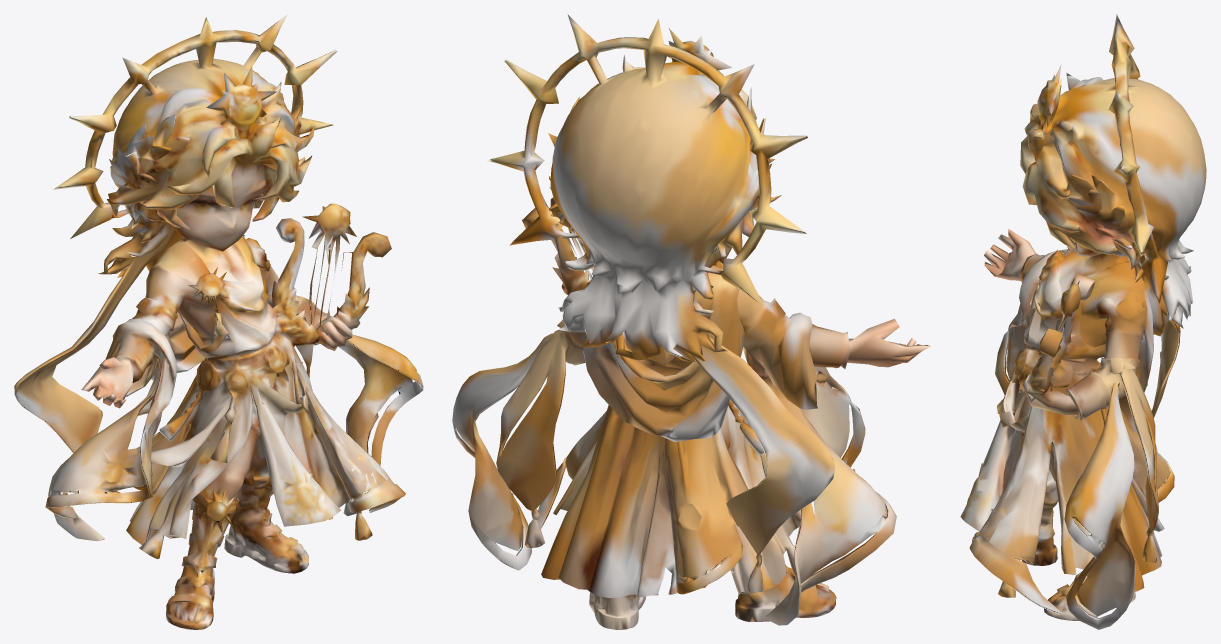
Rendered from apollo_painted.glb.
The picture shows the model from 3 angles, left to right: view 1: azimuth 30°, elevation 25°; view 2: azimuth 150°, elevation 25°; view 3: azimuth 270°, elevation 25°; orthographic projection. The views are drawn at different scales.
Visible parts, largest first — view 1: Body; view 2: Body; view 3: Body.
Part boxes in pixels (x1,y1,x2,y2): Body: (14, 14, 423, 629); Body: (452, 14, 931, 629); Body: (960, 14, 1206, 629).
Size of the model in its own units: 0.73 by 0.9996 by 0.4071.
Materials: 1 (1 with a texture image).
